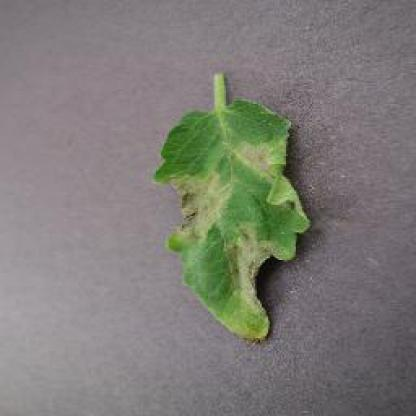bad leaf: (164, 92, 305, 332)
